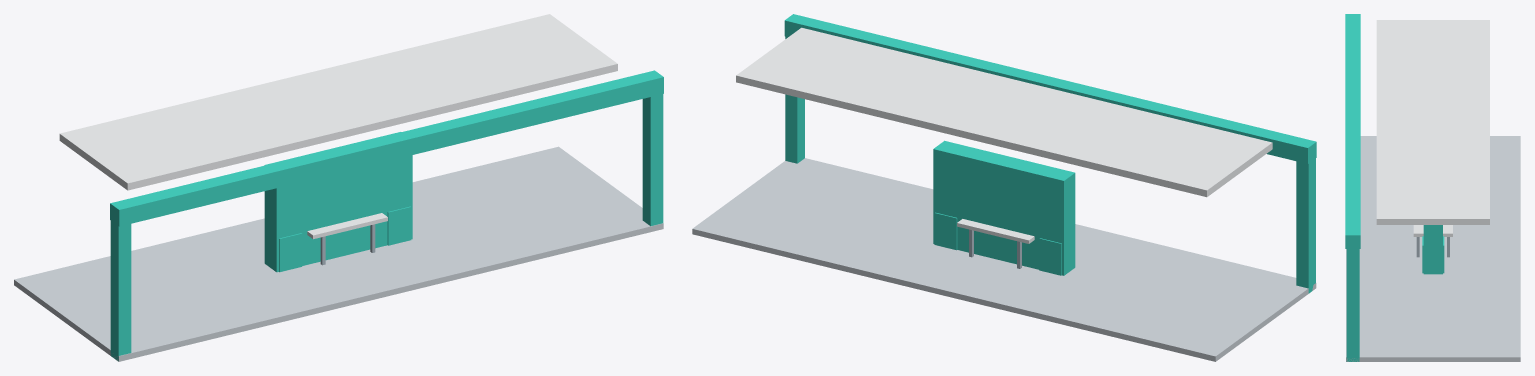
3 views of the same model, side by side, from view 1: azimuth 30°, elevation 25°; view 2: azimuth 150°, elevation 25°; view 3: azimuth 270°, elevation 25° (orthographic). The views are drawn at different scales.
Visible parts, largest first — view 1: Exhibition Booth Concept; view 2: Exhibition Booth Concept; view 3: Exhibition Booth Concept.
Boxes of the visible parts, bbox=[...] form: Exhibition Booth Concept: bbox=[14, 14, 663, 361]; Exhibition Booth Concept: bbox=[692, 14, 1316, 361]; Exhibition Booth Concept: bbox=[1345, 14, 1520, 361].
Size of the model in its own units: 12 by 3.34 by 4.02.
